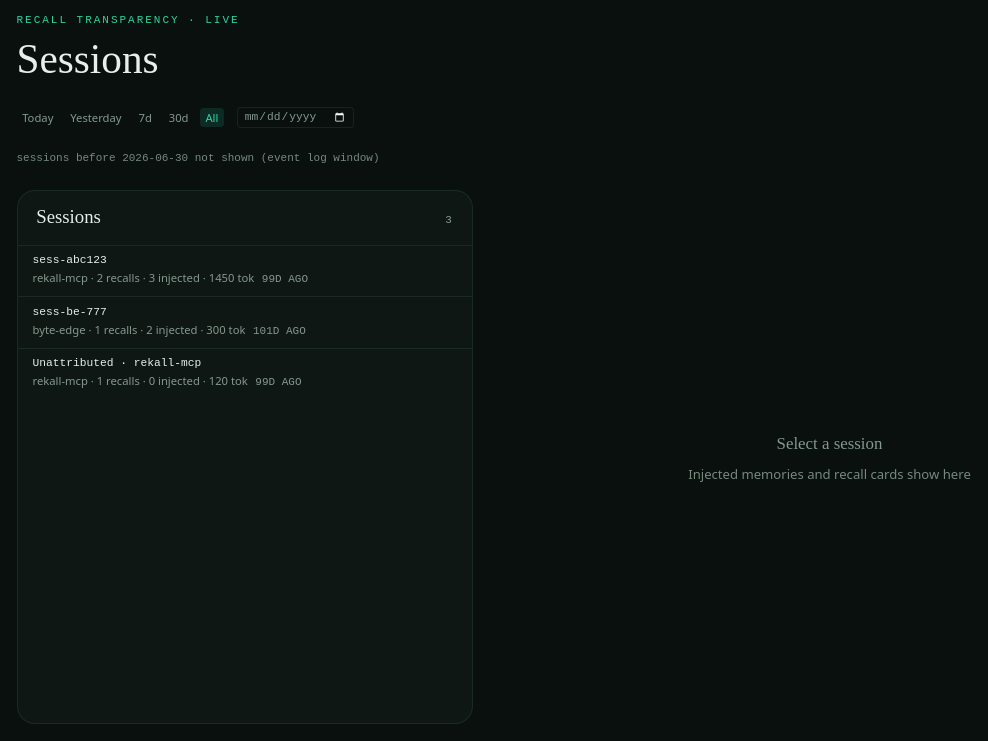
Sessions surface › empty list for a bounded range shows the range-specific empty state
Expected: the text "sess-abc123" is shown, [32,253,107,268]
Step 1. Click the button "Today" → (38, 117), box [16,108,59,127]
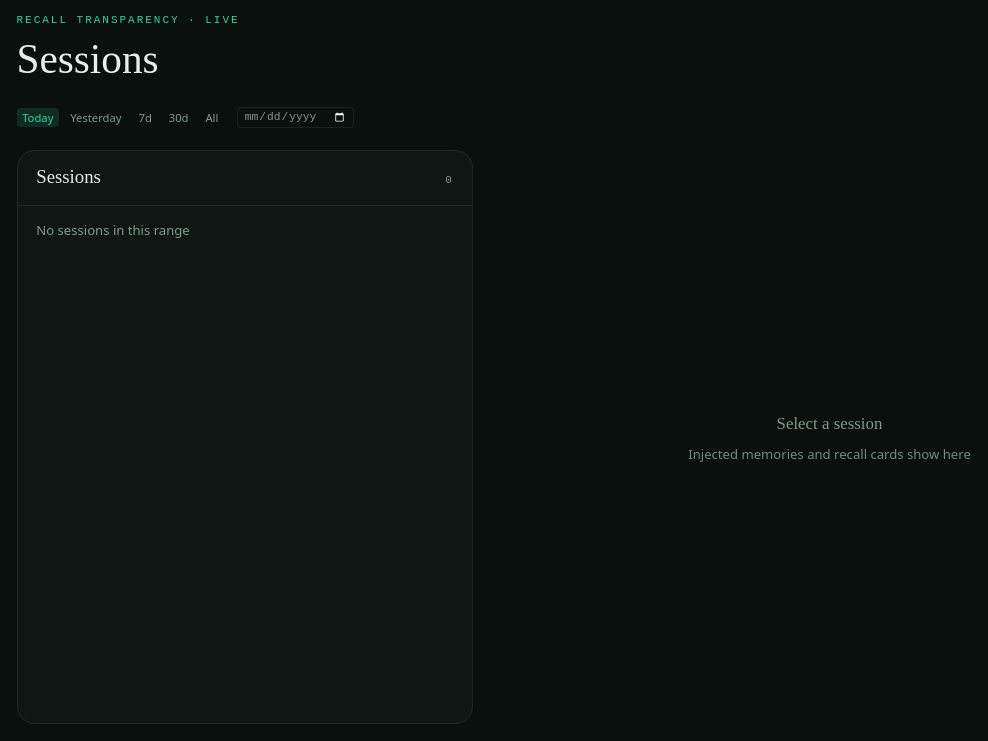
Expected: the text "No sessions in this range" is shown, [36,221,190,239]
